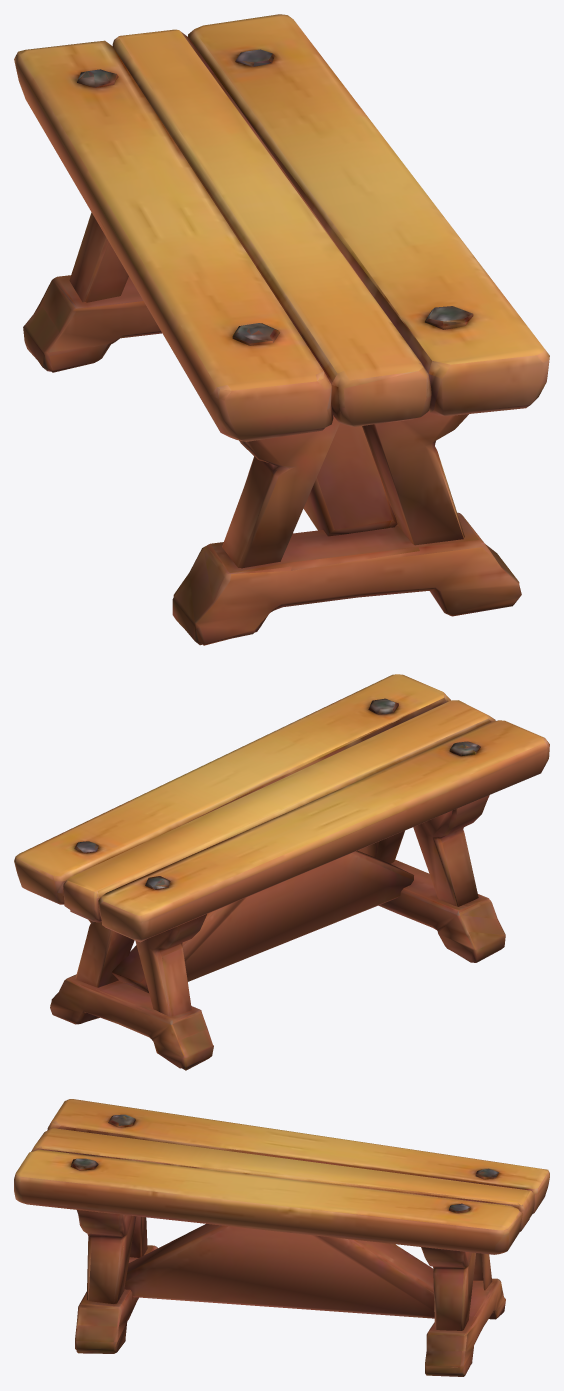
Rendered from wyn_furn_rustic_bench.glb.
3 views of the same model, one above another, from view 1: azimuth 30°, elevation 25°; view 2: azimuth 150°, elevation 25°; view 3: azimuth 270°, elevation 25° (orthographic). The views are drawn at different scales.
Visible parts, largest first — view 1: tripo_node_92f61199-1d17-44b3-aa79-a9081c5d2fbb; view 2: tripo_node_92f61199-1d17-44b3-aa79-a9081c5d2fbb; view 3: tripo_node_92f61199-1d17-44b3-aa79-a9081c5d2fbb.
Boxes of the visible parts, box(x1,y1,x2,y2) form: tripo_node_92f61199-1d17-44b3-aa79-a9081c5d2fbb: box(14, 14, 549, 645); tripo_node_92f61199-1d17-44b3-aa79-a9081c5d2fbb: box(14, 674, 549, 1070); tripo_node_92f61199-1d17-44b3-aa79-a9081c5d2fbb: box(14, 1099, 549, 1376).
Bounding box in the file's own units: 0.9286 × 0.5999 × 1.65.
Materials: 1 (1 with a texture image).
